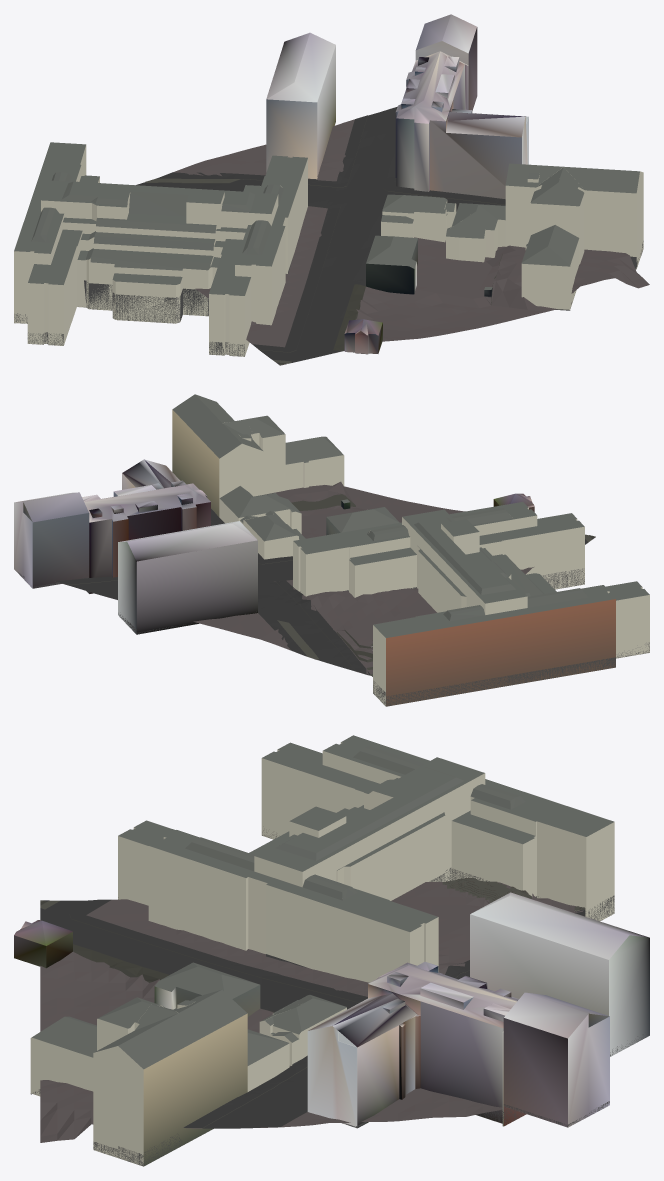
3 views of the same model, one above another, from view 1: azimuth 30°, elevation 25°; view 2: azimuth 150°, elevation 25°; view 3: azimuth 270°, elevation 25° (orthographic). The views are drawn at different scales.
Visible parts, largest first — view 1: c_m05_m13; view 2: c_m05_m13; view 3: c_m05_m13.
Part boxes in pixels (x1,y1,x2,y2): c_m05_m13: (14, 14, 649, 365); c_m05_m13: (14, 394, 649, 706); c_m05_m13: (14, 735, 649, 1166).
Size of the model in its own units: 193 by 37.23 by 149.
